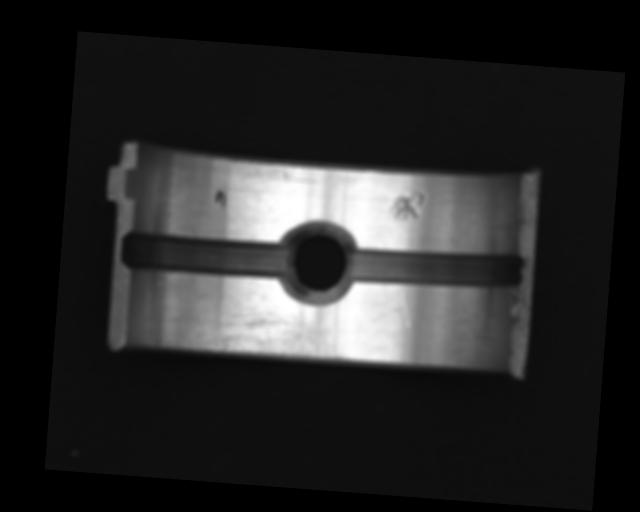blot: (214, 187, 227, 211)
bruise: (388, 188, 426, 222)
gap: (347, 239, 525, 295), (120, 229, 293, 280)
hole: (275, 219, 360, 306)
nick: (396, 285, 412, 328)
scratch: (187, 305, 352, 363)
